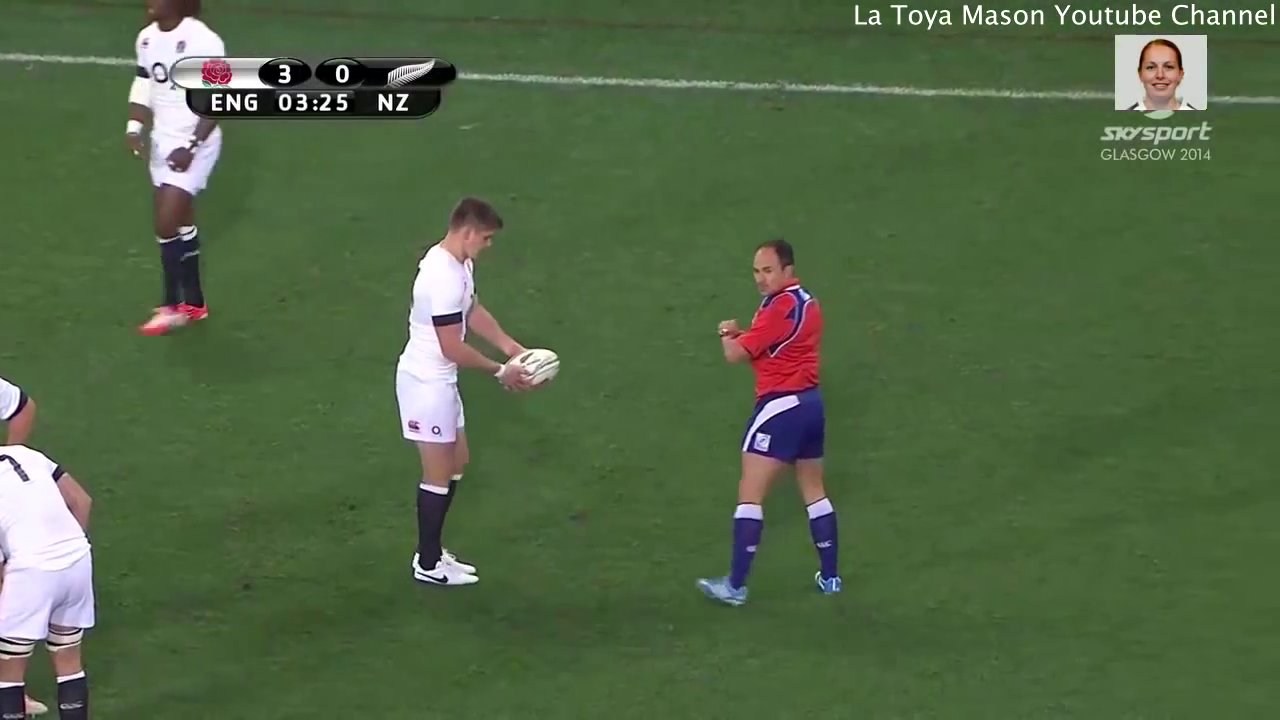ball: (480, 330, 565, 397)
player: (387, 198, 562, 592), (696, 232, 860, 625), (120, 1, 229, 340), (1, 431, 111, 720)
